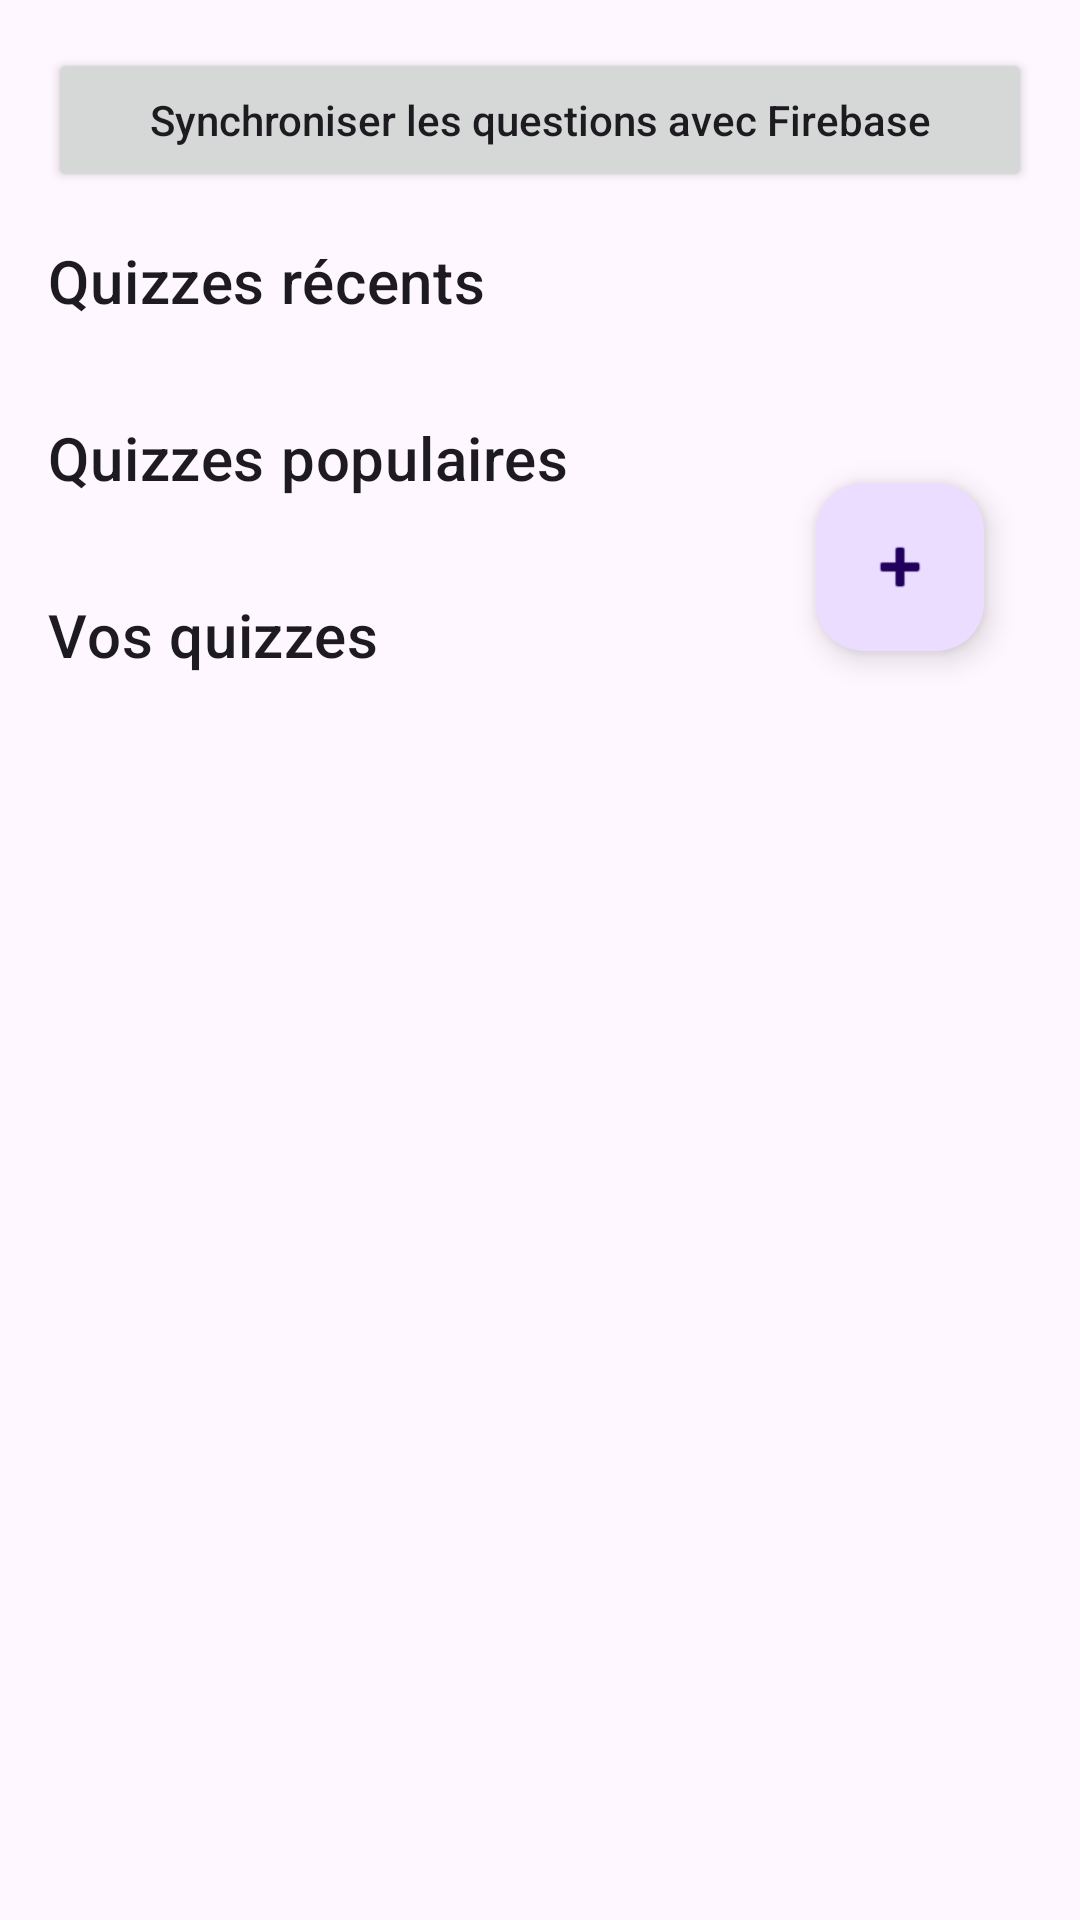

Locate icon controls on the screen. Image size 1080x1920, boxes as {"left": x1, "top": y1, "right": x2, "bottom": y2}.
Créer un quiz: {"left": 816, "top": 483, "right": 984, "bottom": 651}
